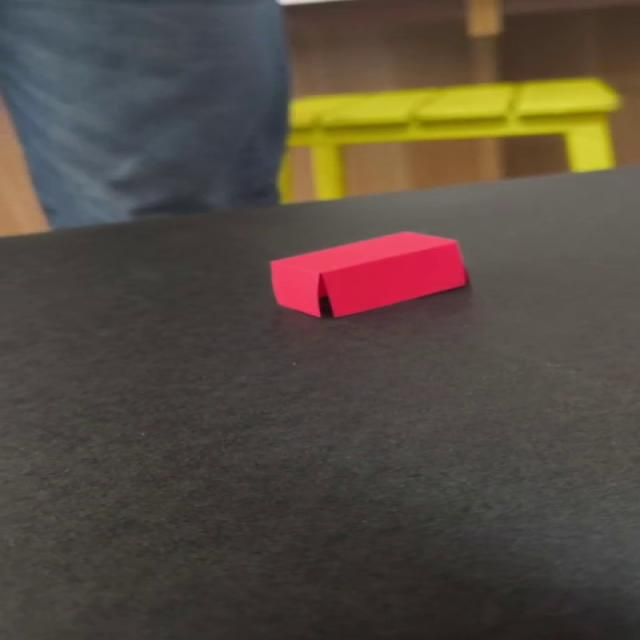red block: (268, 230, 469, 318)
